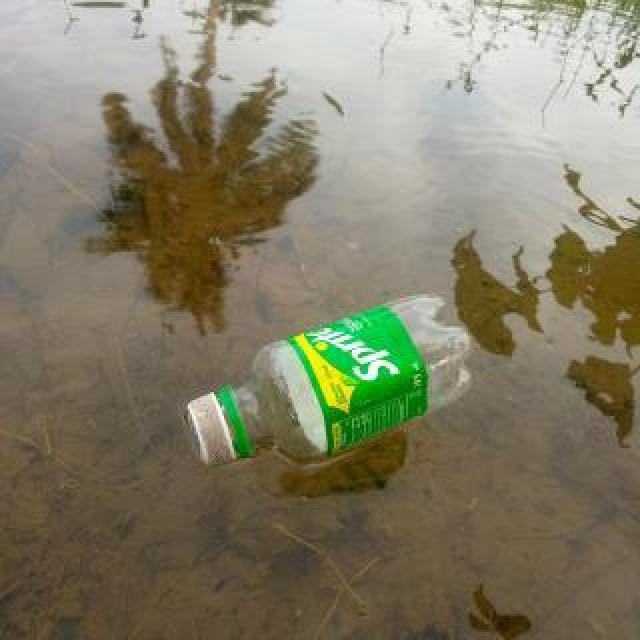bottle: (184, 288, 478, 476)
